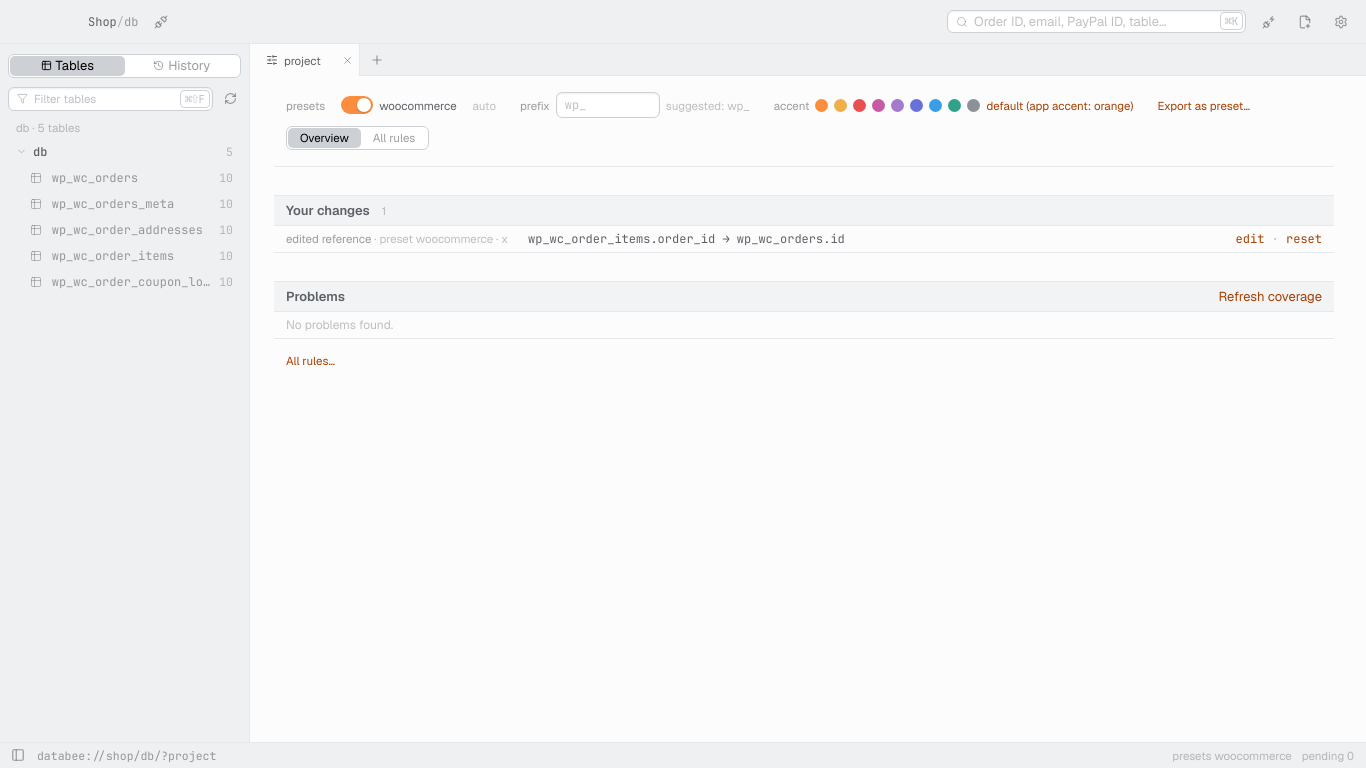
Test: ProjectPanel › overview › your changes › opens the sheet of the rule a change edits
Check: the element named "Databases" is shown, box [16,144,233,290]
Check: the element named "Presets and prefix" is shown, box [274,76,1334,167]
Step 1. Click the button "edit" → {"x": 1250, "y": 239}, box [1236,229,1264,249]
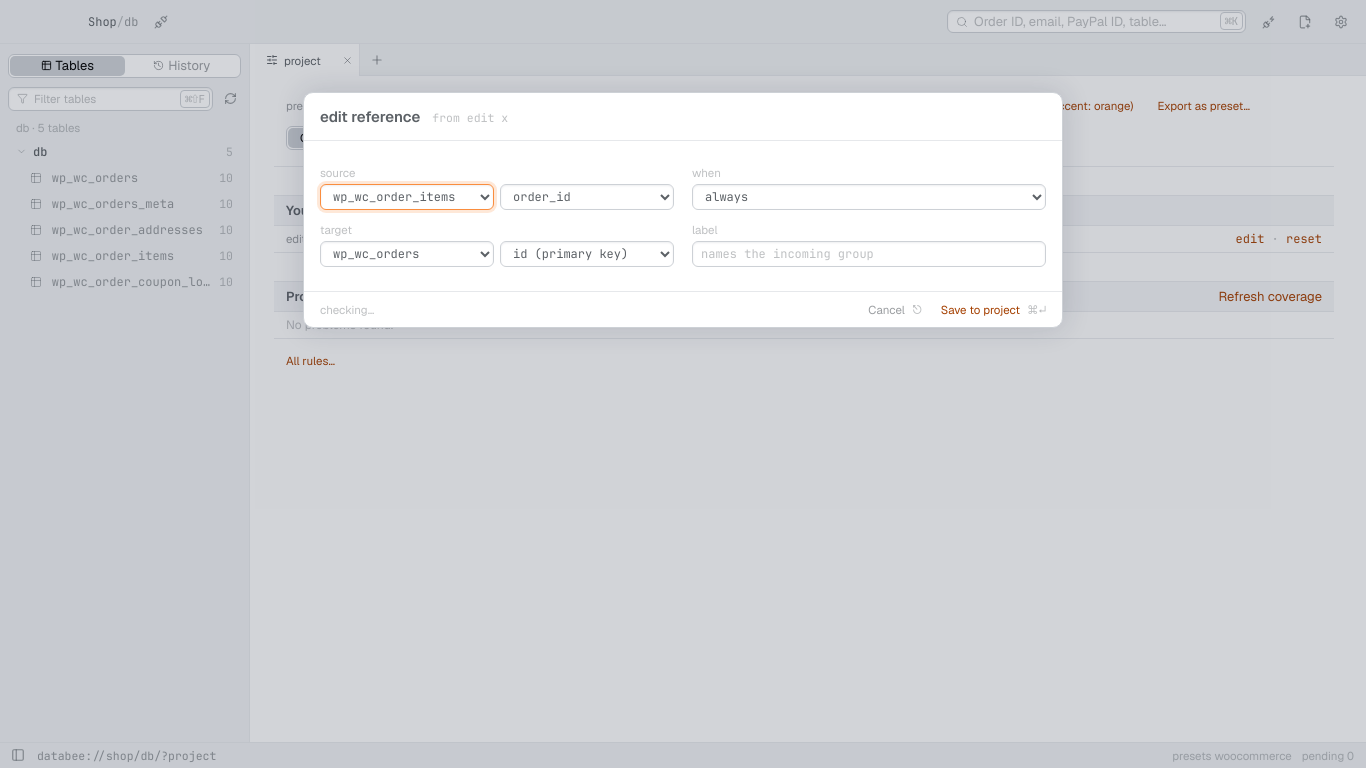
Check: the dropdown named "Source table" shows "wp_wc_order_items", box [320,184,494,210]
